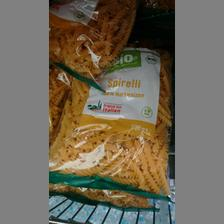Nudeln: (50, 46, 170, 194), (48, 0, 136, 84)
